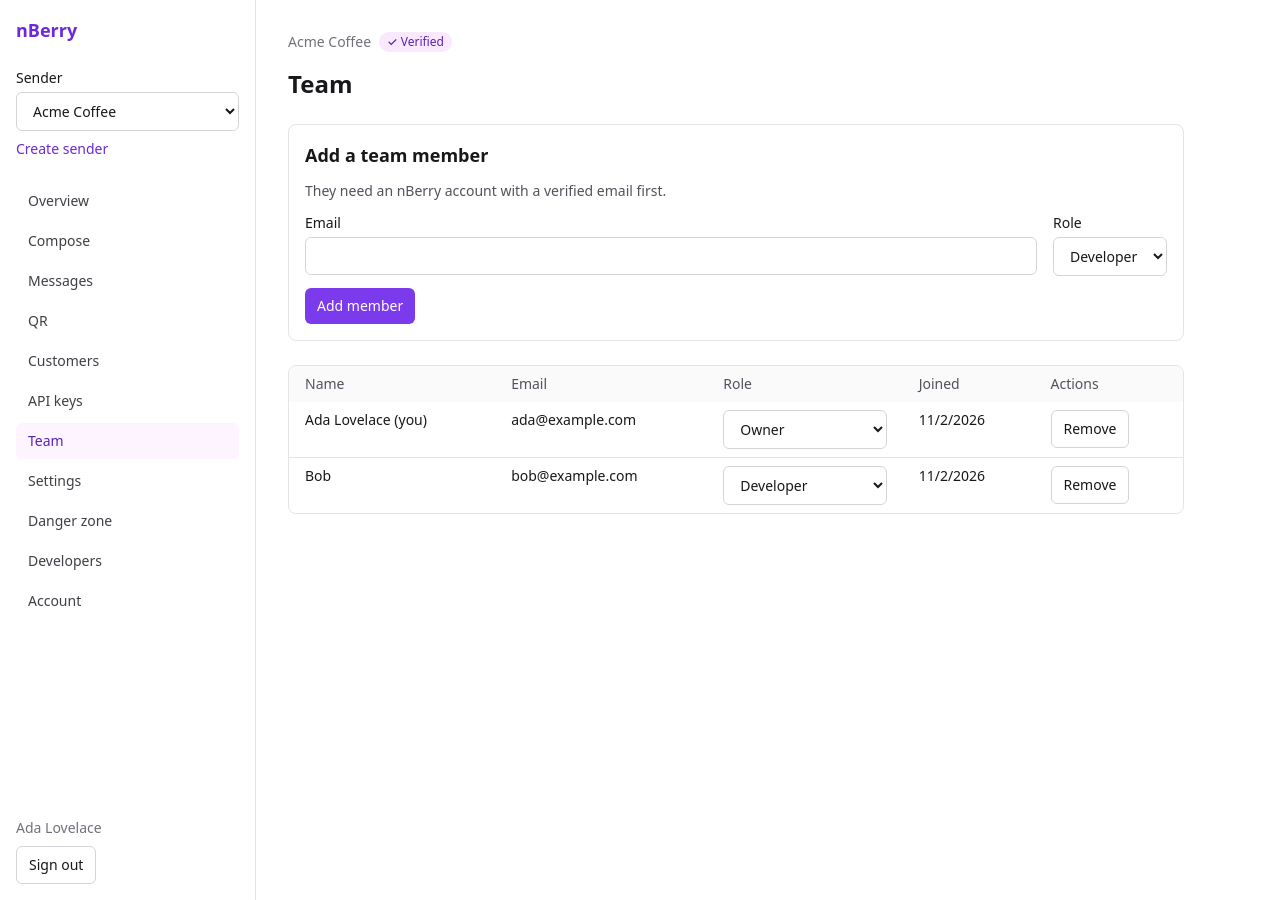
team › removing yourself navigates home after success and refetches orgs
The width and height of the screenshot is (1280, 900).
Step 1. Click the button with aria-label "Remove ada@example.com" → [1090, 429], box 1050,410 -> 1129,448
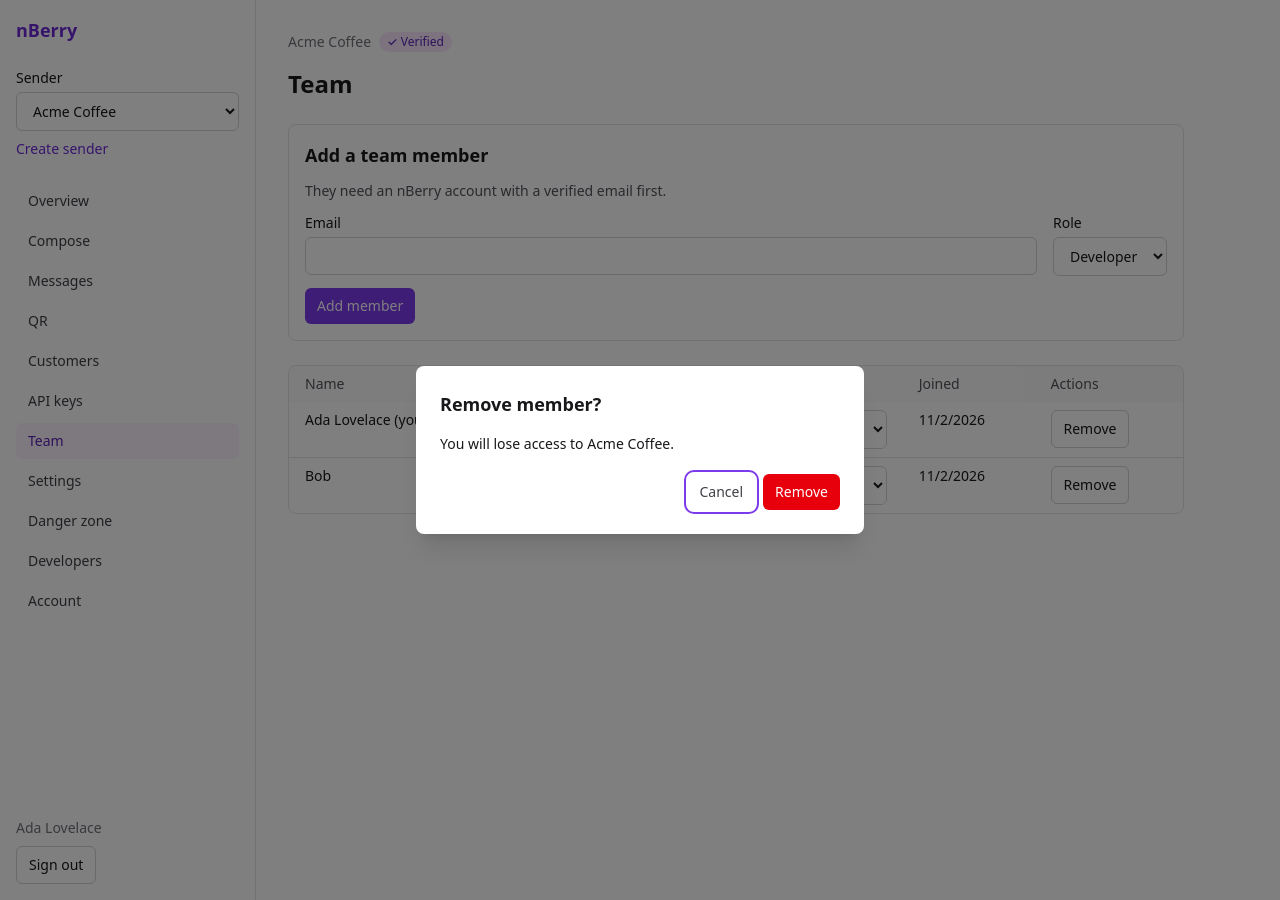
Step 2. Click the button "Remove" → [802, 492], box 763,474 -> 840,510
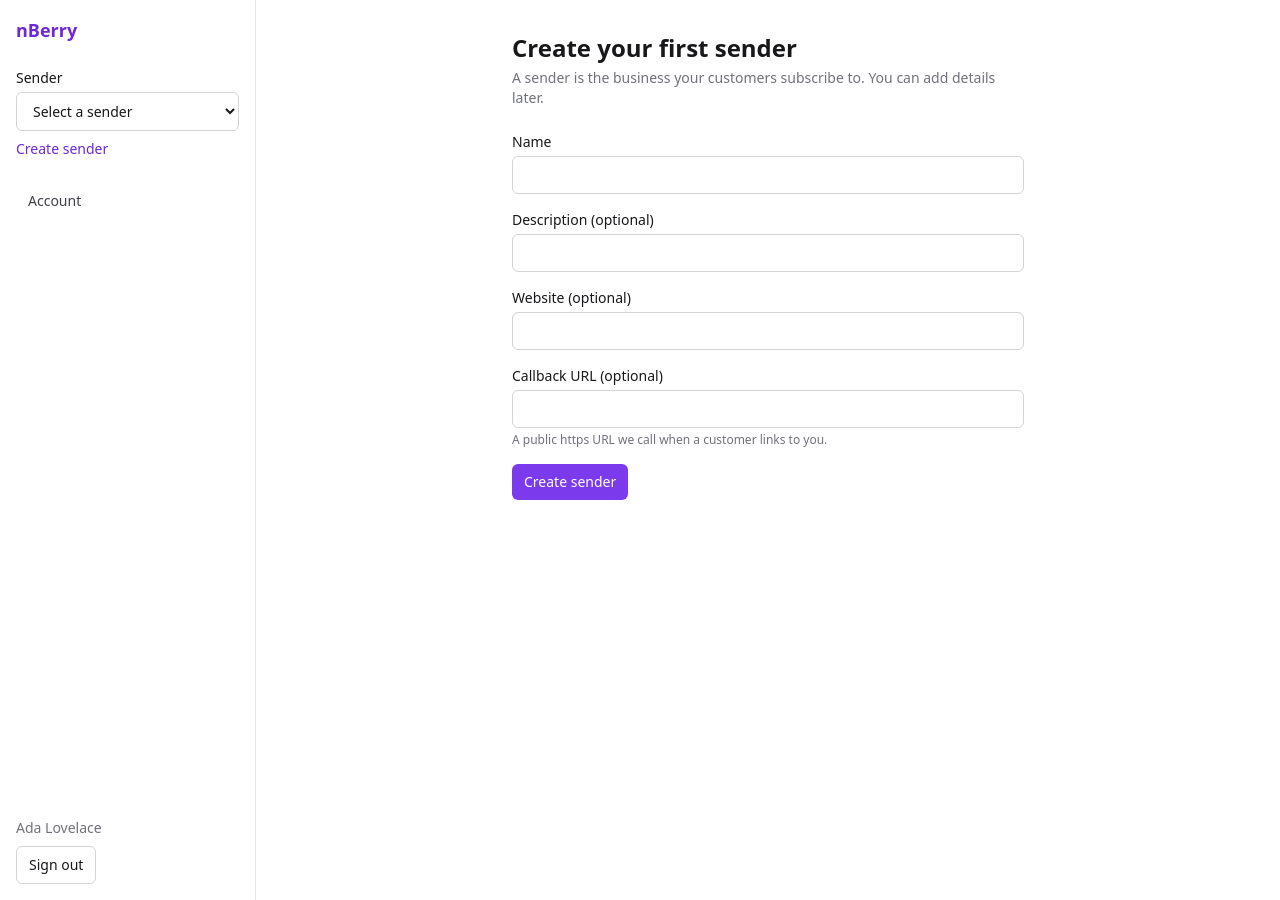
Check: the heading "Create your first sender" is shown, box 512,31 -> 797,64
